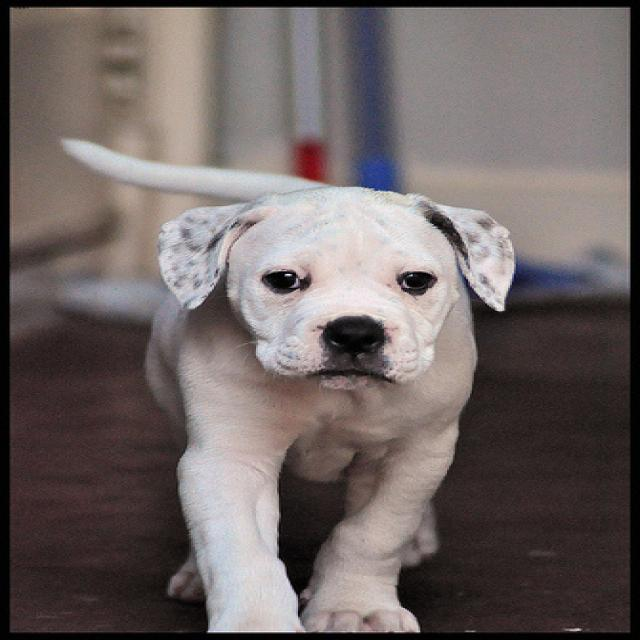dog-american_bulldog: (29, 124, 523, 637)
